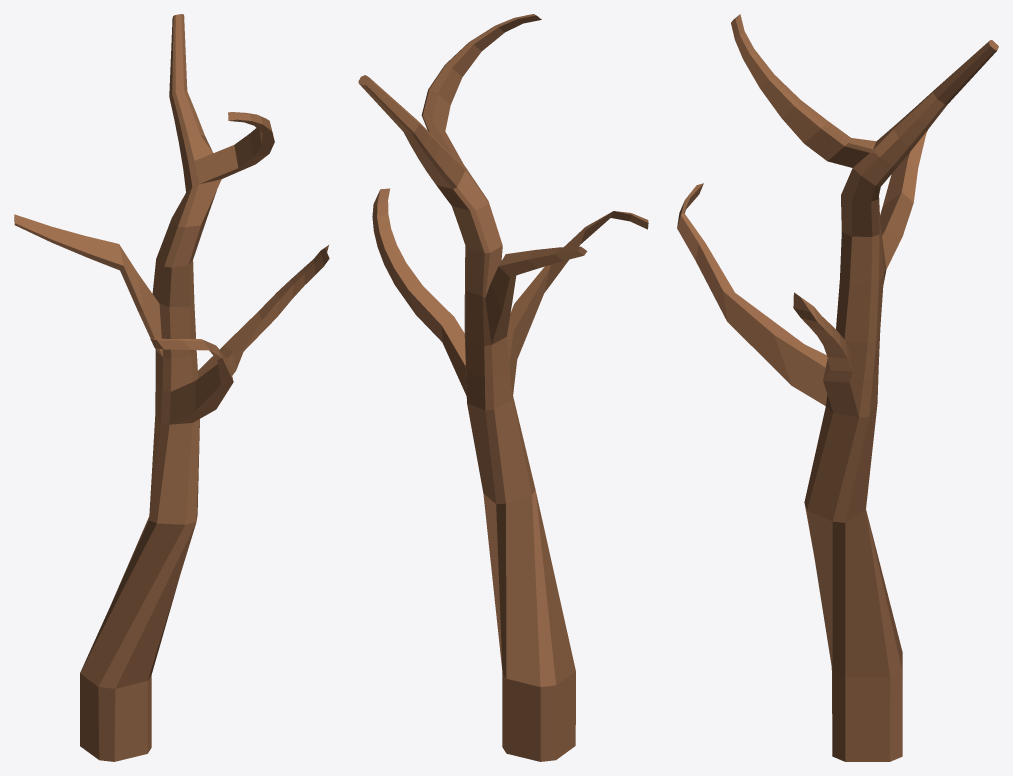
Rendered from dead_tree_.fbx.
The picture shows the model from 3 angles, left to right: view 1: azimuth 30°, elevation 25°; view 2: azimuth 150°, elevation 25°; view 3: azimuth 270°, elevation 25°; orthographic projection. The views are drawn at different scales.
Parts seen in each view (by area): view 1: Dead Tree; view 2: Dead Tree; view 3: Dead Tree.
Boxes of the visible parts, bbox=[...] form: Dead Tree: bbox=[14, 14, 329, 761]; Dead Tree: bbox=[358, 14, 648, 761]; Dead Tree: bbox=[677, 14, 998, 761].
Bounding box in the file's own units: 107 × 260 × 98.33.
